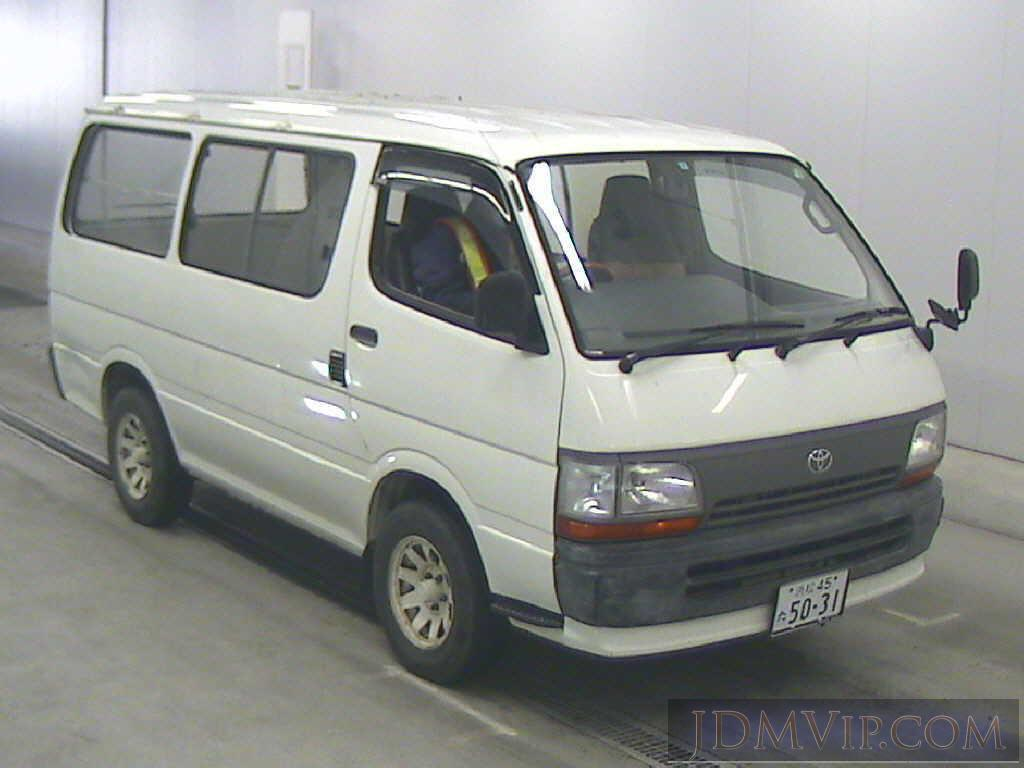Van: (51, 74, 974, 680)
